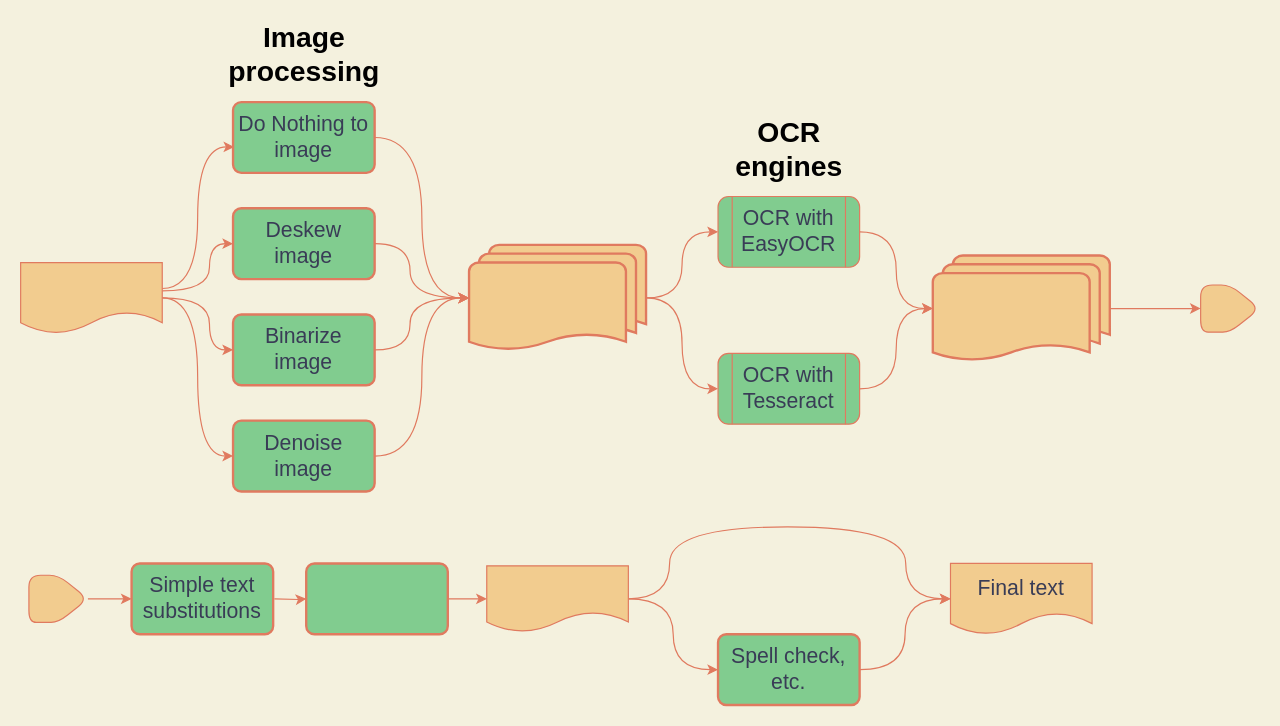
Image size: 1280x726. Some labels were removed from this diagram. The shapes that lost their labels are listed below. From the top down, each one's centre as x and y in pixels, then its label:
[90,297]: Label image
[557,297]: Modified images
[1020,308]: OCR results
[376,598]: Consensus sequence
[557,598]: Raw label text
